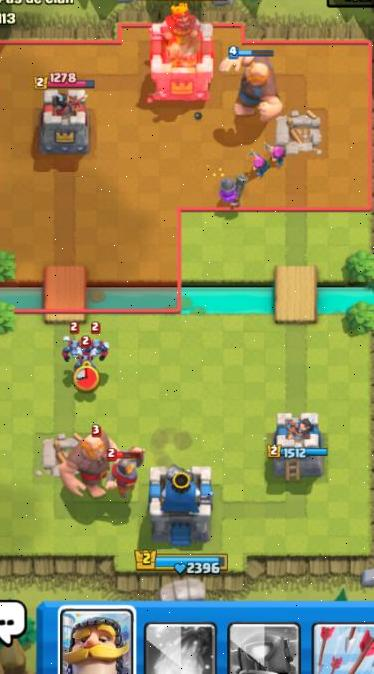enemy_giant: (53, 425, 117, 502)
enemy_knight: (105, 444, 147, 497)
enemy_minions: (57, 333, 85, 362), (84, 332, 112, 361), (69, 350, 97, 372)
player_archers: (245, 146, 271, 178), (263, 138, 289, 167)
player_giant: (220, 49, 284, 121)
player_musketeer: (211, 168, 250, 210)
